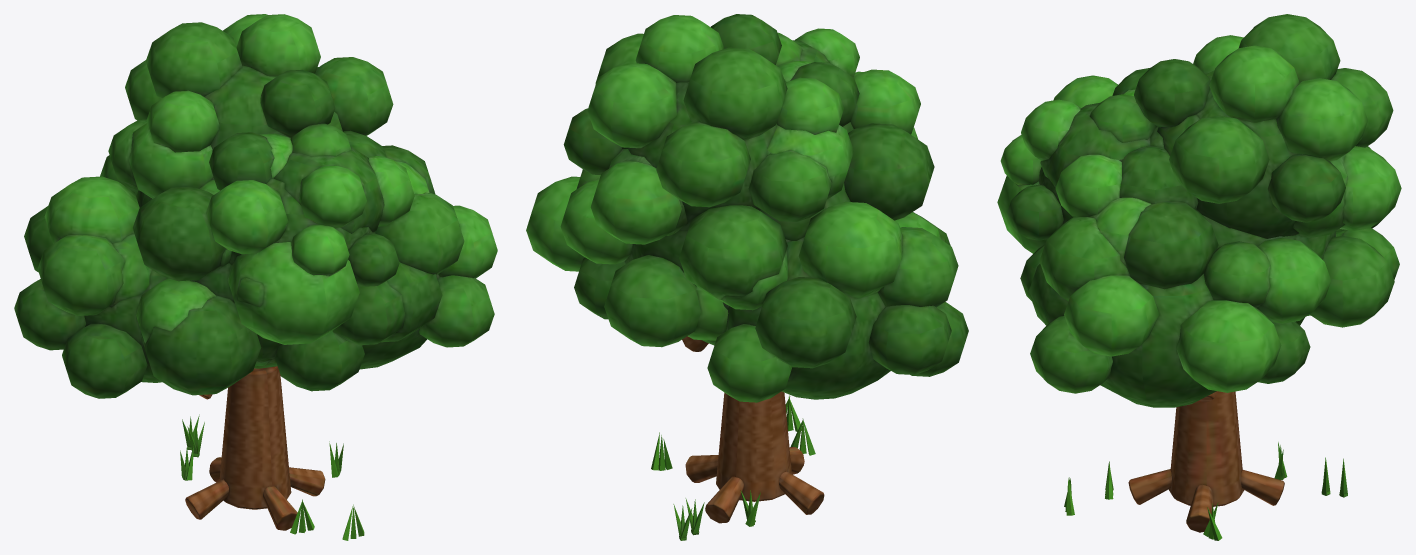
Rendered from pomegranate_tree.glb.
3 views of the same model, side by side, from view 1: azimuth 30°, elevation 25°; view 2: azimuth 150°, elevation 25°; view 3: azimuth 270°, elevation 25° (orthographic). The views are drawn at different scales.
Parts seen in each view (by area): view 1: crown, pomegranate_tree; view 2: crown, pomegranate_tree; view 3: crown, pomegranate_tree.
Boxes of the visible parts, left/top/right/bottom form: crown: left=14, top=14, right=497, bottom=398; pomegranate_tree: left=180, top=366, right=364, bottom=540; crown: left=526, top=14, right=968, bottom=402; pomegranate_tree: left=651, top=336, right=824, bottom=540; crown: left=997, top=14, right=1401, bottom=407; pomegranate_tree: left=1064, top=391, right=1347, bottom=540.
Bounding box in the file's own units: 1.16 × 1.24 × 0.9523.
Materials: 1 (1 with a texture image).
